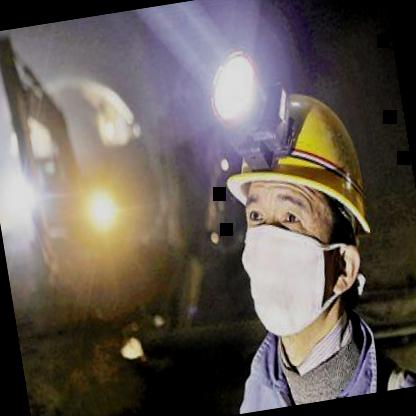helmet: (210, 69, 390, 342)
